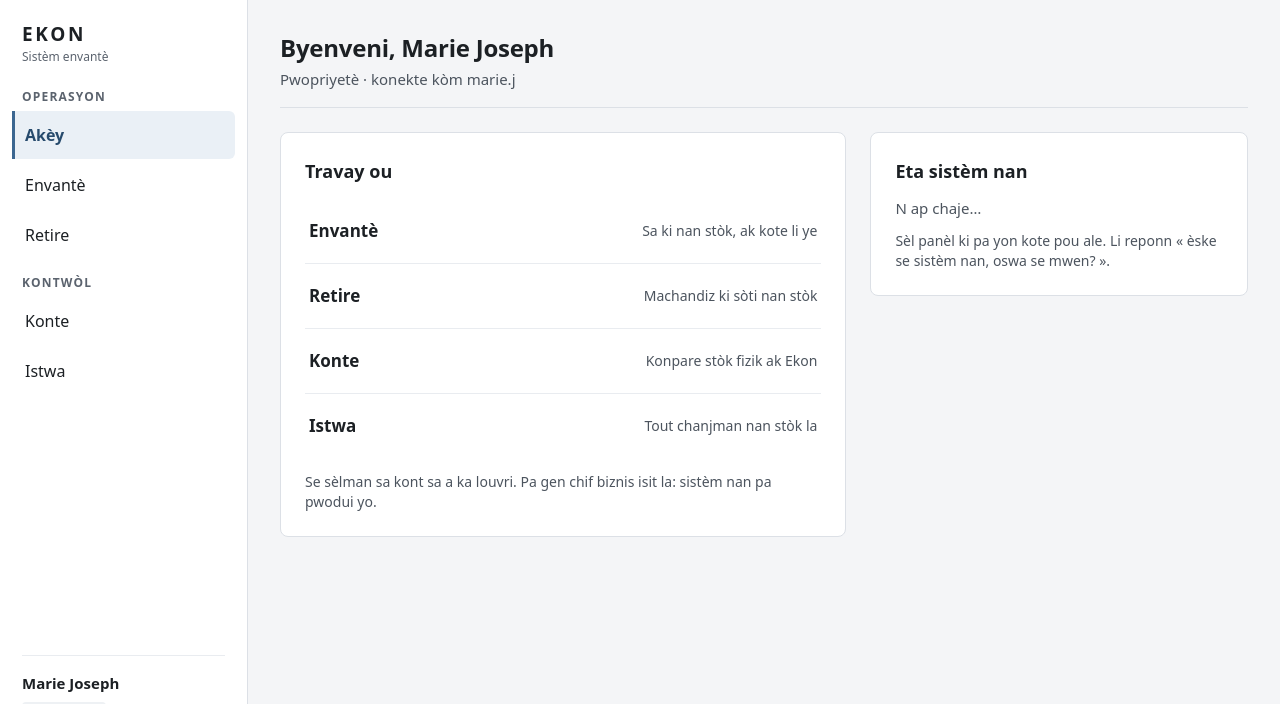
Test: the removal being entered › says the shelf is the one stock comes off
expect the text "Marie Joseph" is shown: met, box left=22, top=672, right=119, bottom=692
Click the button "Retire".
click(124, 234)  # box left=12, top=210, right=235, bottom=258
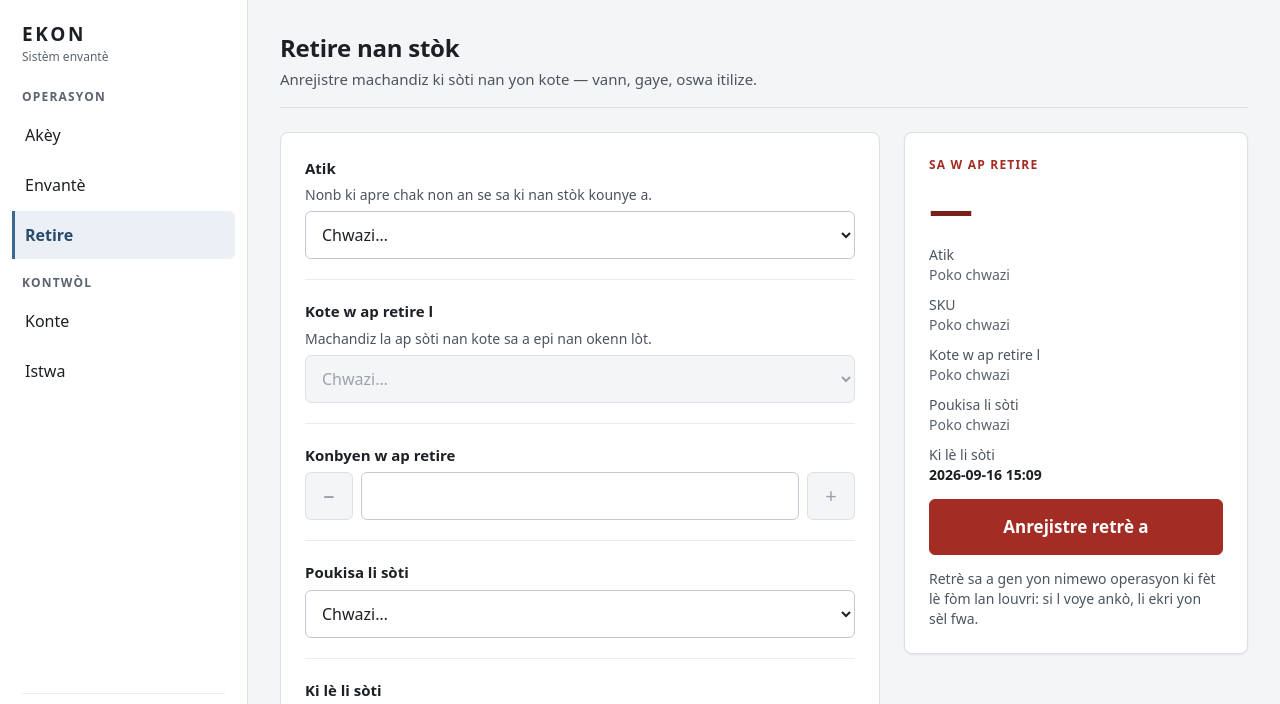
expect the heading "Retire nan stòk" is shown: met, box left=280, top=31, right=459, bottom=64
expect the text "Machandiz la ap sòti nan kote sa a epi nan okenn lòt." is shown: met, box left=305, top=328, right=652, bottom=348
